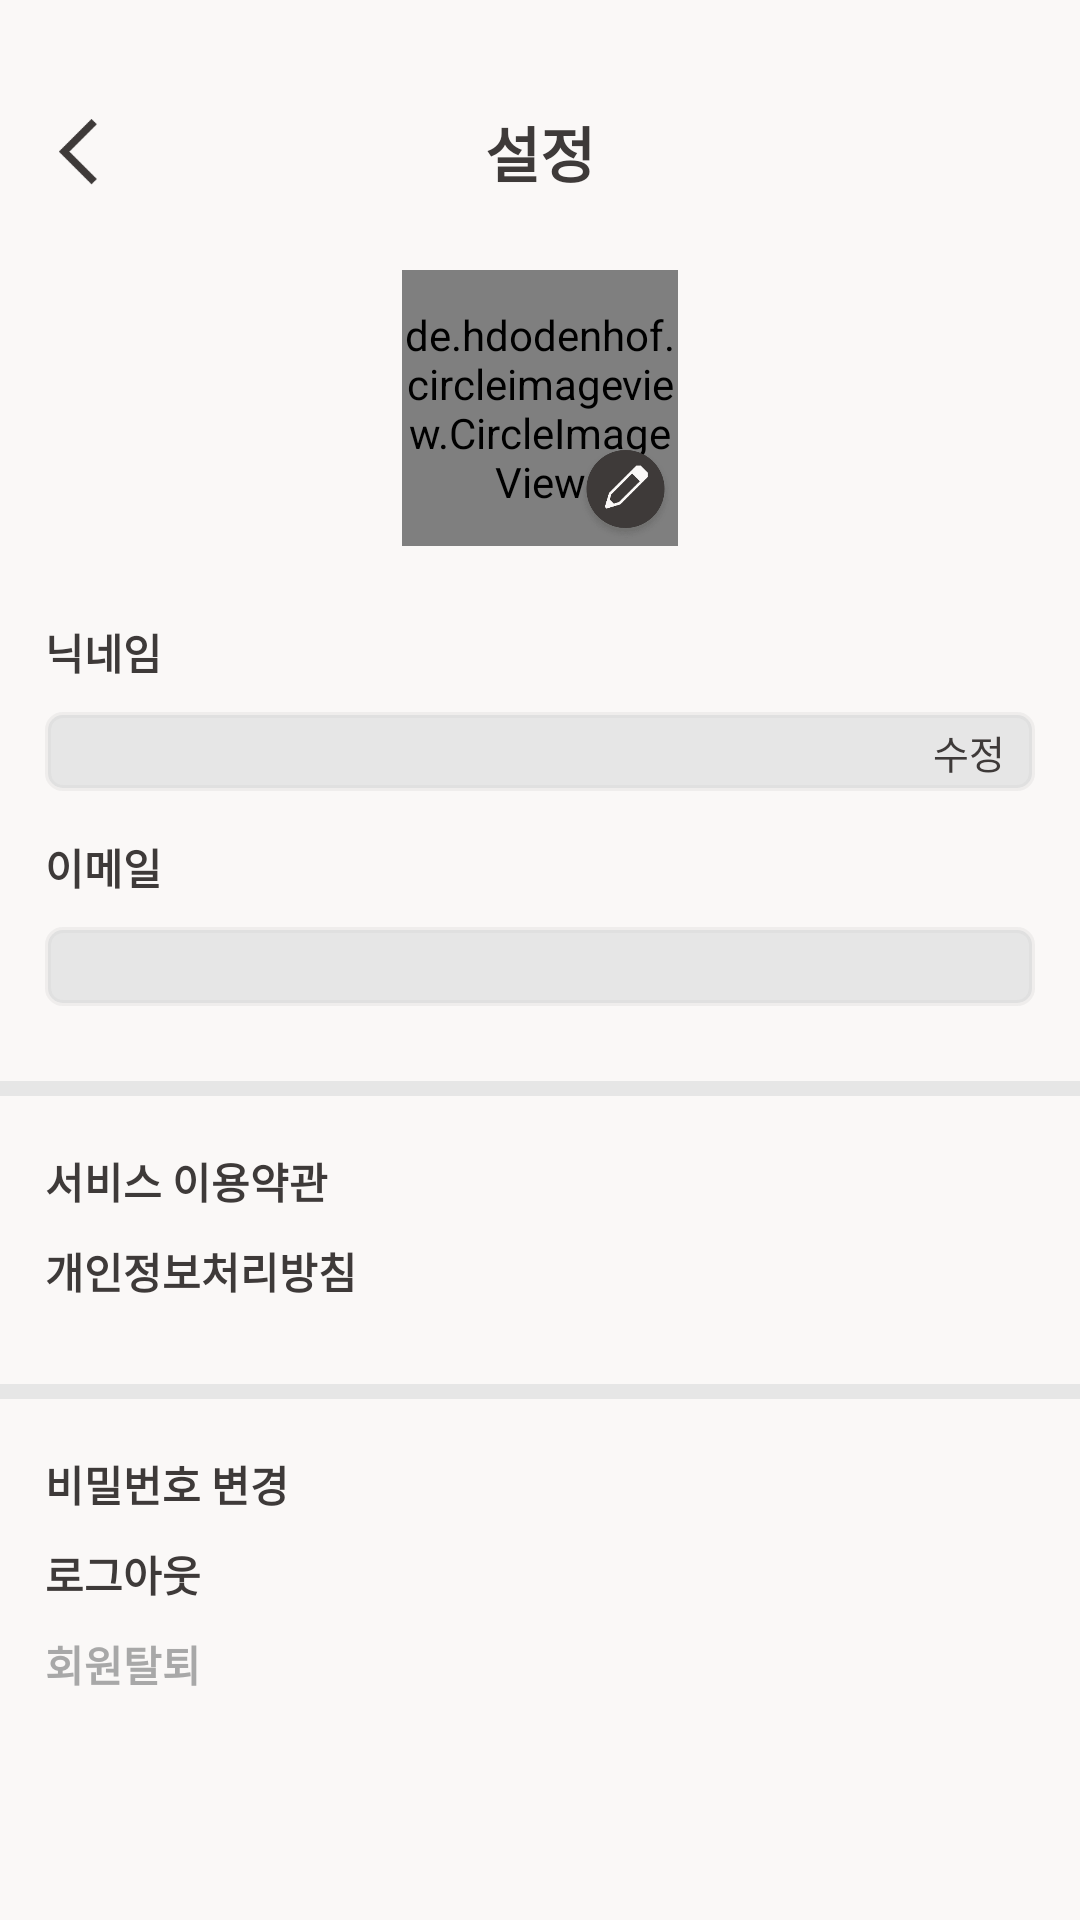

Locate icon controls on the screen. Image size 1080w x 1920h, boxes as (x1, y1, x2, y2).
back: (59, 119, 97, 184)
write post: (573, 441, 669, 528)
